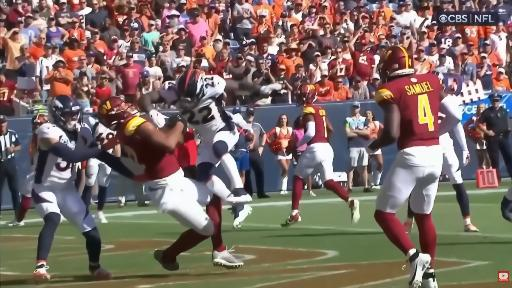Helmet: (98, 97, 138, 130), (379, 46, 414, 82), (175, 69, 204, 110), (50, 94, 82, 131), (296, 84, 317, 104), (32, 114, 47, 131), (429, 69, 444, 85)
Jersey: (376, 74, 443, 150), (117, 117, 179, 179), (178, 75, 230, 135), (34, 148, 75, 184), (303, 104, 328, 145), (93, 123, 115, 153), (439, 133, 453, 148)
Player: (99, 97, 243, 270), (368, 46, 461, 287), (32, 95, 133, 283), (138, 69, 280, 198), (282, 84, 359, 226), (440, 133, 478, 231), (82, 159, 111, 223), (8, 171, 34, 226), (501, 187, 511, 222)
